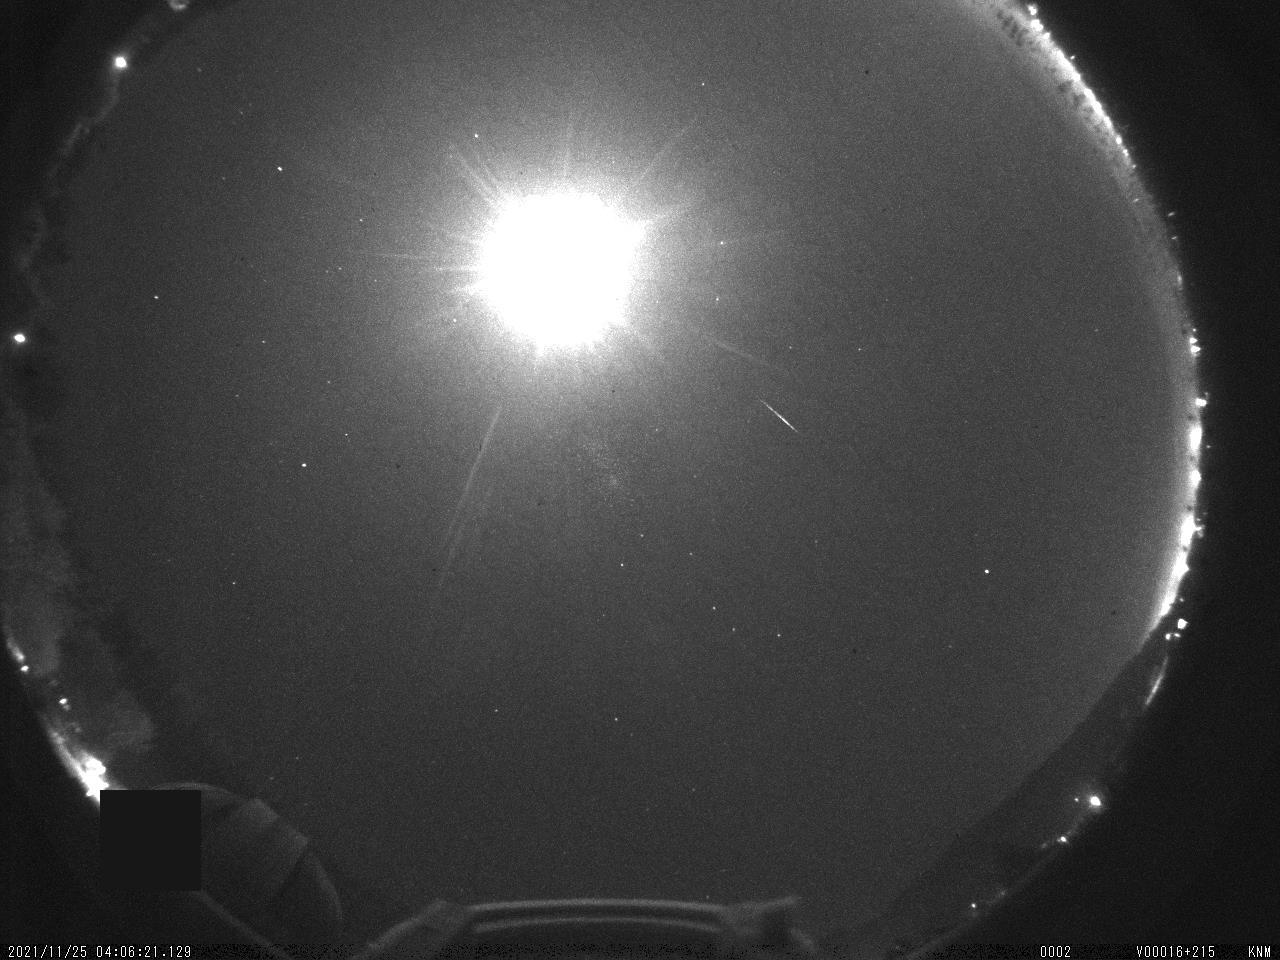meteor: (752, 388, 812, 454)
